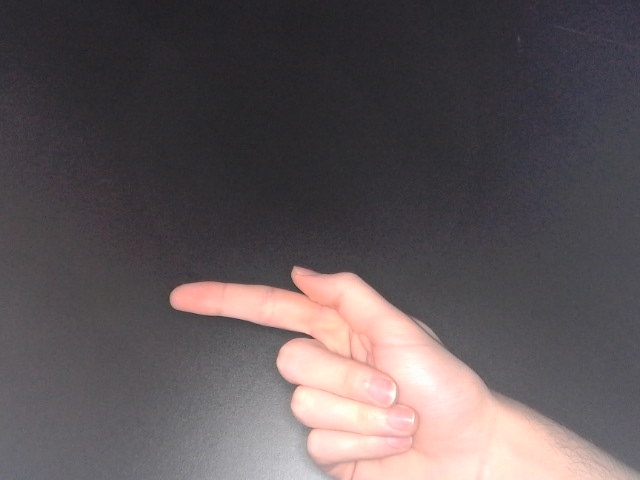g: (165, 261, 520, 480)
